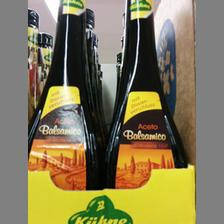Essig: (104, 0, 192, 188), (30, 0, 97, 188)
